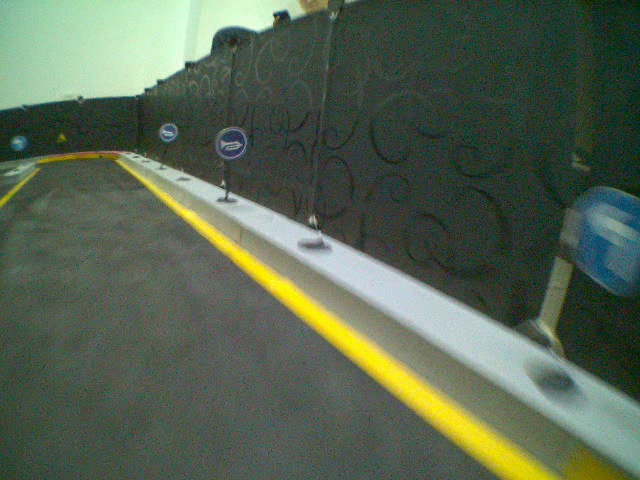horn: (215, 127, 249, 161), (159, 123, 177, 142)
